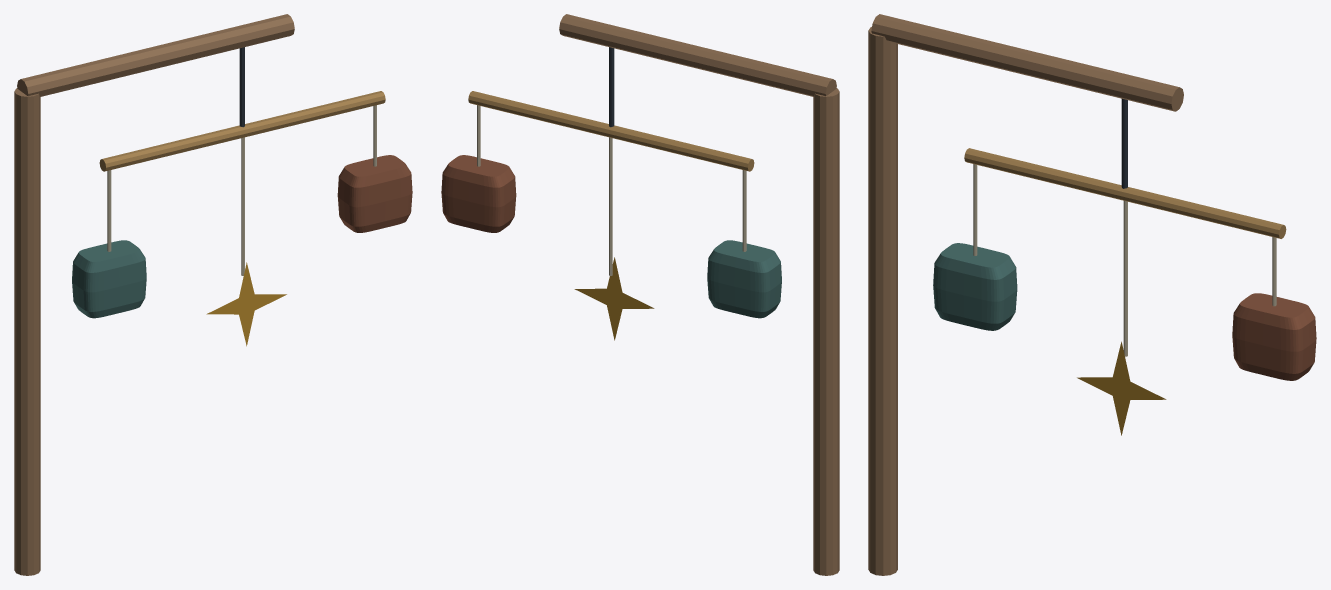
The model's file is H-03_mobile.glb.
3 views of the same model, side by side, from view 1: azimuth 30°, elevation 25°; view 2: azimuth 150°, elevation 25°; view 3: azimuth 330°, elevation 25° (orthographic). The views are drawn at different scales.
Visible parts, largest first — view 1: H-03_mobile; view 2: H-03_mobile; view 3: H-03_mobile.
Part boxes in pixels (<box>): H-03_mobile: <box>14,14,412,575</box>; H-03_mobile: <box>441,14,839,575</box>; H-03_mobile: <box>868,14,1316,575</box>.
Bounding box in the file's own units: 0.4815 × 0.5794 × 0.044.
